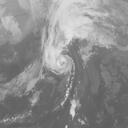cyclone: (40, 39, 77, 76)
